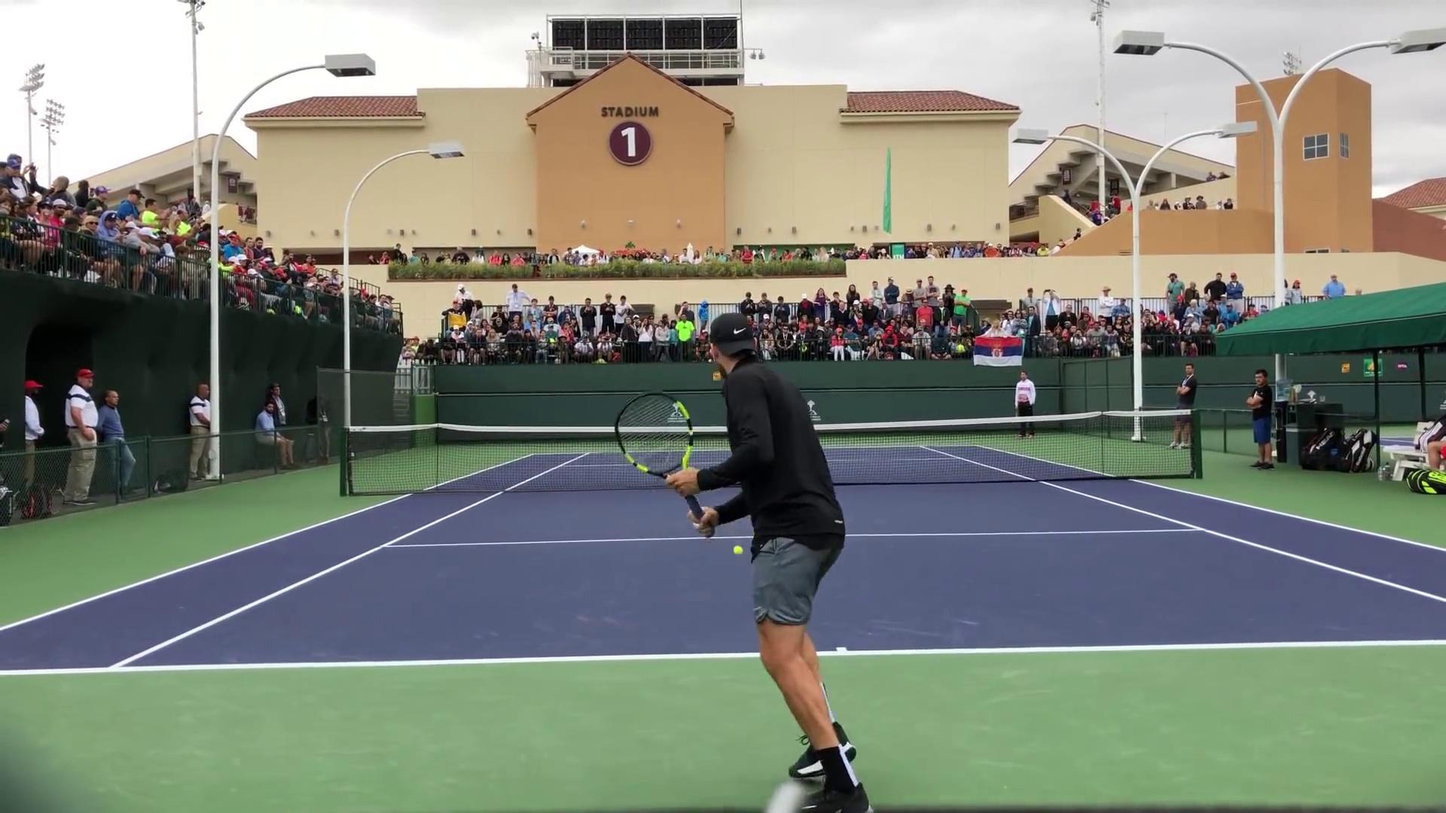ball: (731, 545, 745, 554)
